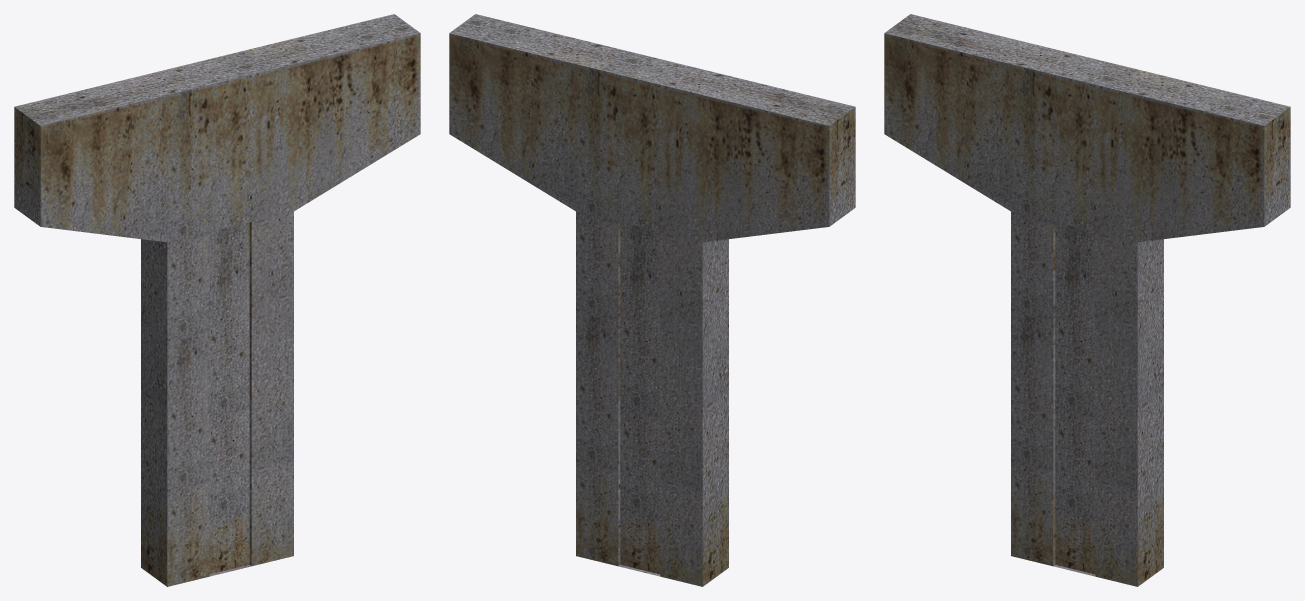
Rendered from HighwayPillar.FBX.
3 views of the same model, side by side, from view 1: azimuth 30°, elevation 25°; view 2: azimuth 150°, elevation 25°; view 3: azimuth 330°, elevation 25° (orthographic).
Parts seen in each view (by area): view 1: highwaypillar; view 2: highwaypillar; view 3: highwaypillar.
Part boxes in pixels (box(x1,y1,x2,y2)): highwaypillar: box(14, 14, 420, 586); highwaypillar: box(449, 14, 855, 586); highwaypillar: box(884, 14, 1290, 586).
Size of the model in its own units: 9185 by 11355 by 1100.
